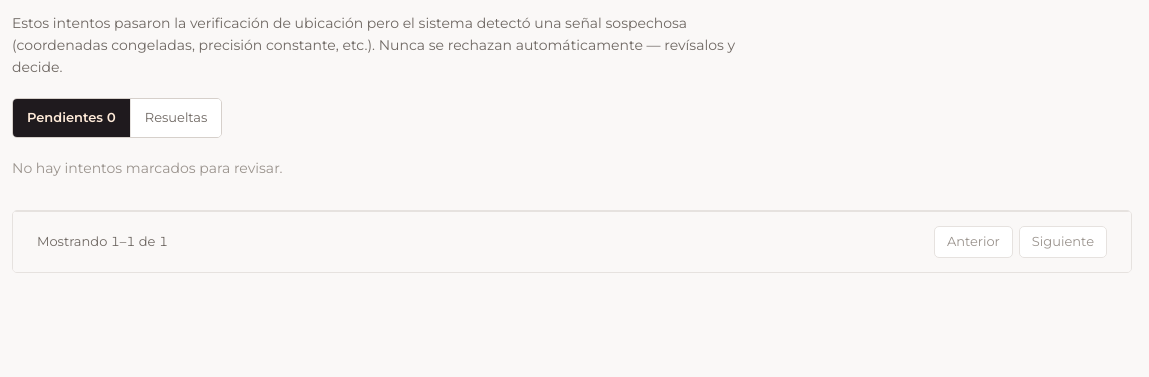
Scenario: ReviewQueuePage › shows the outcome and hides the actions once an attempt is reviewed
The width and height of the screenshot is (1149, 377).
Resolved attempts live under the "Resueltas" segment, not the default pending one.
Click the button "Resueltas" at [176, 118], box [130, 99, 221, 137]
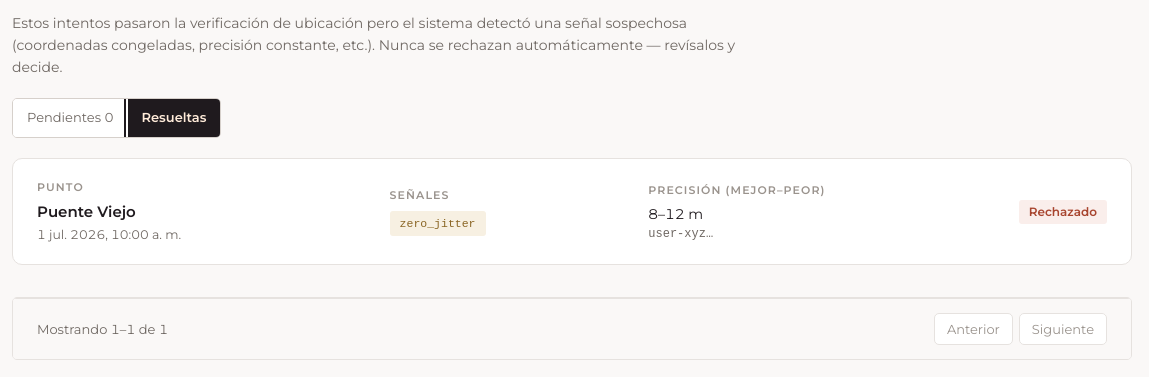
Result: the text "Puente Viejo" is shown at [37, 202, 136, 221]
Result: the text "Rechazado" is shown at [1019, 200, 1107, 224]
